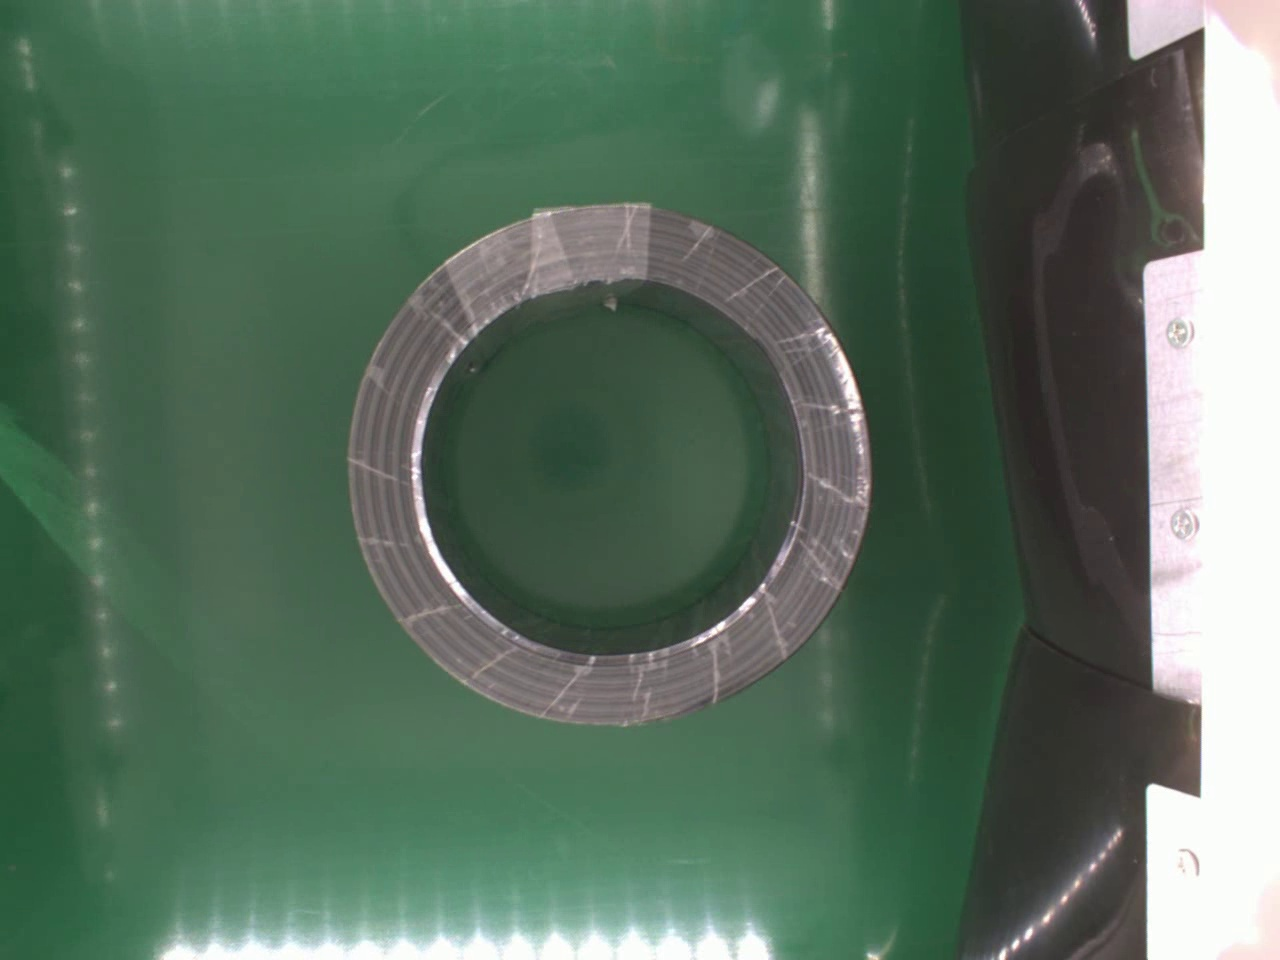black: (343, 198, 885, 739)
